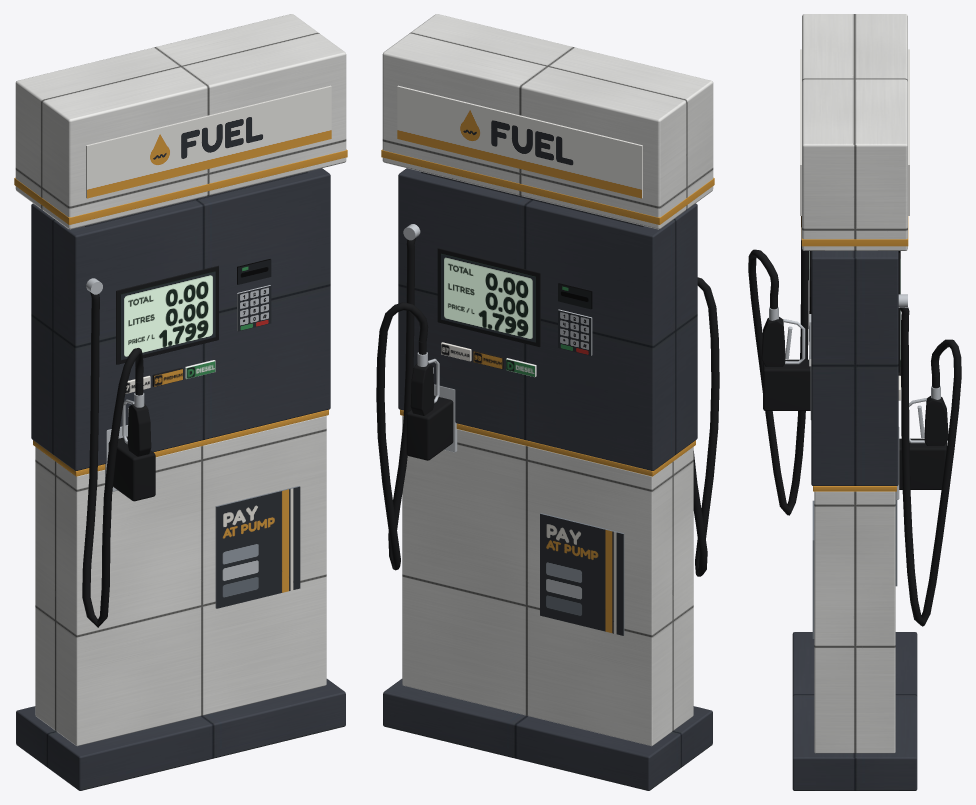
Rendered from gs_pump_modern.glb.
The picture shows the model from 3 angles, left to right: view 1: azimuth 30°, elevation 25°; view 2: azimuth 150°, elevation 25°; view 3: azimuth 270°, elevation 25°; orthographic projection. The views are drawn at different scales.
Parts seen in each view (by area): view 1: gs_pump_modern, hose_F, nozzle_F; view 2: gs_pump_modern, hose_B, hose_F, nozzle_B; view 3: gs_pump_modern, hose_B, hose_F, nozzle_F, nozzle_B.
Part boxes in pixels (<box>): gs_pump_modern: <box>14,14,347,790</box>; hose_F: <box>82,292,143,627</box>; nozzle_F: <box>122,382,151,456</box>; gs_pump_modern: <box>381,14,714,790</box>; hose_B: <box>376,238,428,570</box>; hose_F: <box>693,277,719,576</box>; nozzle_B: <box>410,341,439,415</box>; gs_pump_modern: <box>763,14,946,790</box>; hose_B: <box>899,307,961,626</box>; hose_F: <box>748,216,808,515</box>; nozzle_F: <box>761,296,805,366</box>; nozzle_B: <box>909,375,948,445</box>.
Size of the model in its own units: 1 by 2.3 by 0.6848.
Materials: 6 (3 with a texture image).
